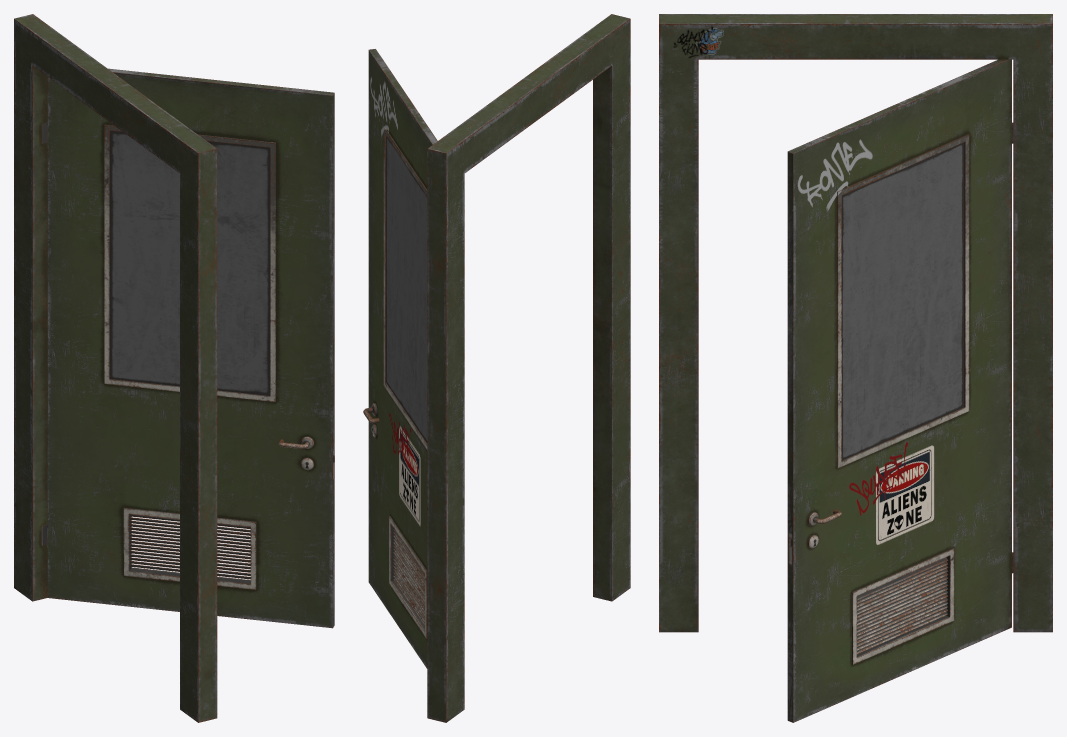
Rendered from Metal Door.fbx.
3 views of the same model, side by side, from view 1: azimuth 30°, elevation 25°; view 2: azimuth 150°, elevation 25°; view 3: azimuth 270°, elevation 25° (orthographic). The views are drawn at different scales.
Parts seen in each view (by area): view 1: door, frame; view 2: frame, door; view 3: door, frame.
Boxes of the visible parts, box(x1,y1,x2,y2) form: door: box(47, 68, 334, 628); frame: box(14, 14, 217, 722); frame: box(427, 14, 630, 722); door: box(368, 49, 437, 668); door: box(787, 59, 1013, 722); frame: box(659, 14, 1052, 632).
Size of the model in its own units: 622 by 1700 by 997.
